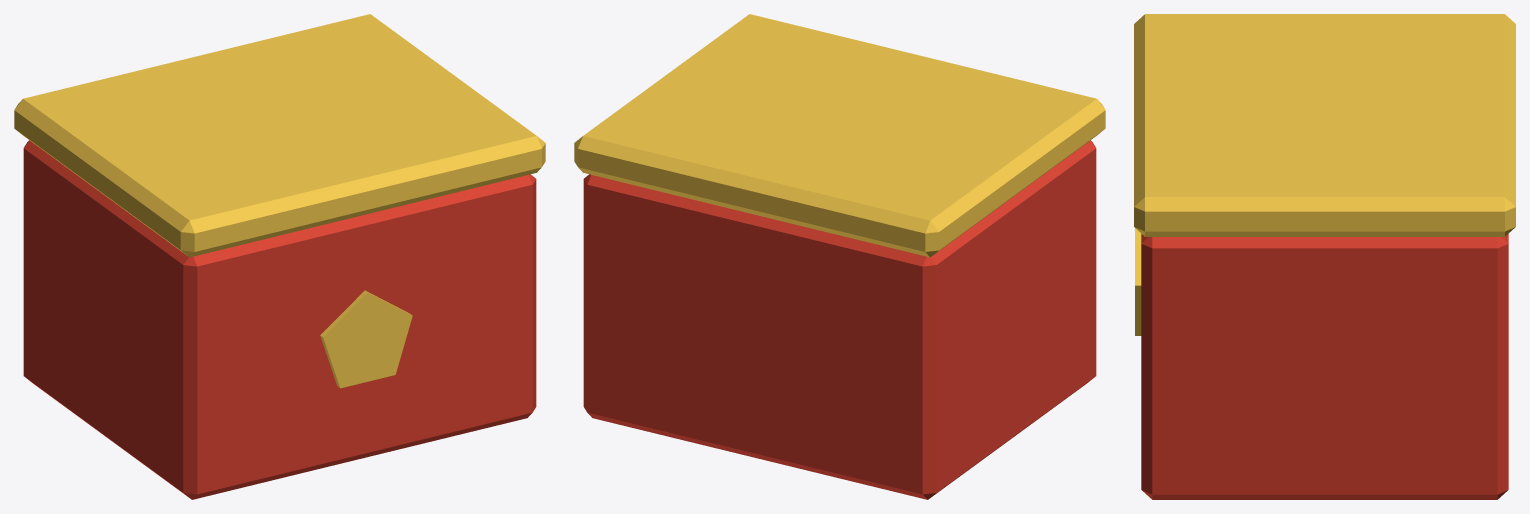
The model's file is toy_chest.glb.
3 renders of one model, left to right at view 1: azimuth 30°, elevation 25°; view 2: azimuth 150°, elevation 25°; view 3: azimuth 270°, elevation 25°, orthographic. The views are drawn at different scales.
Visible parts, largest first — view 1: toy_chest; view 2: toy_chest; view 3: toy_chest.
Boxes of the visible parts, box(x1,y1,x2,y2) form: toy_chest: box(14, 14, 545, 499); toy_chest: box(574, 14, 1105, 499); toy_chest: box(1134, 14, 1515, 499).
Bounding box in the file's own units: 0.62 × 0.46 × 0.52.
